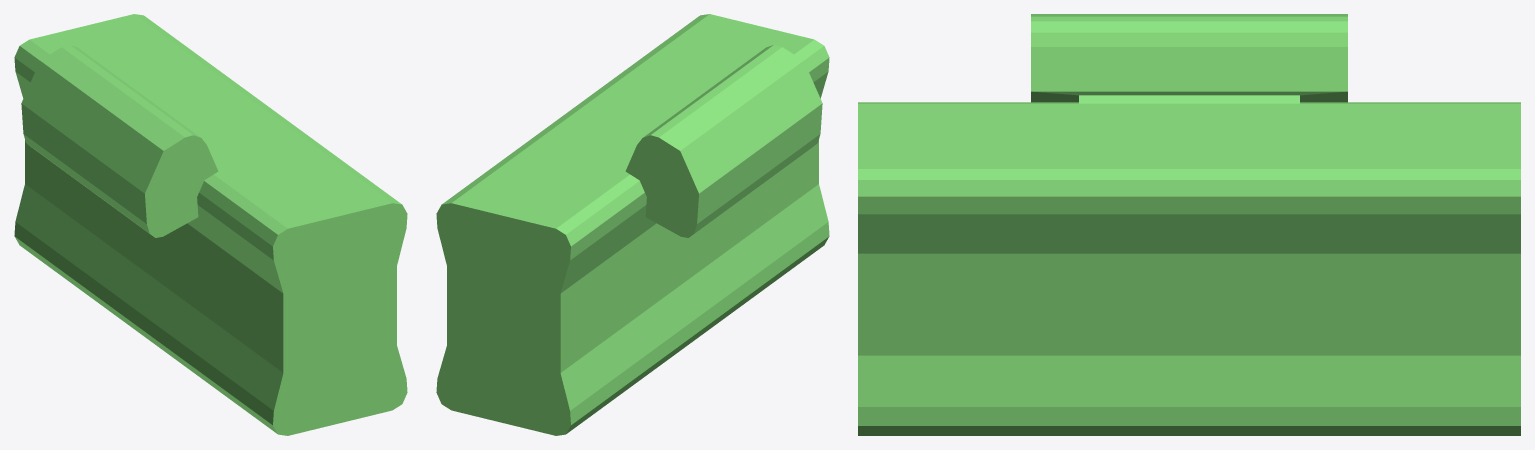
Rendered from Body_Bandit.glb.
The picture shows the model from 3 angles, left to right: view 1: azimuth 30°, elevation 25°; view 2: azimuth 150°, elevation 25°; view 3: azimuth 270°, elevation 25°; orthographic projection. The views are drawn at different scales.
Parts seen in each view (by area): view 1: Body.Bandit; view 2: Body.Bandit; view 3: Body.Bandit.
Part boxes in pixels (left/top/right/bottom): Body.Bandit: left=14, top=14, right=407, bottom=435; Body.Bandit: left=436, top=14, right=829, bottom=435; Body.Bandit: left=858, top=14, right=1520, bottom=435.
Bounding box in the file's own units: 0.3374 × 0.4263 × 0.7742.
